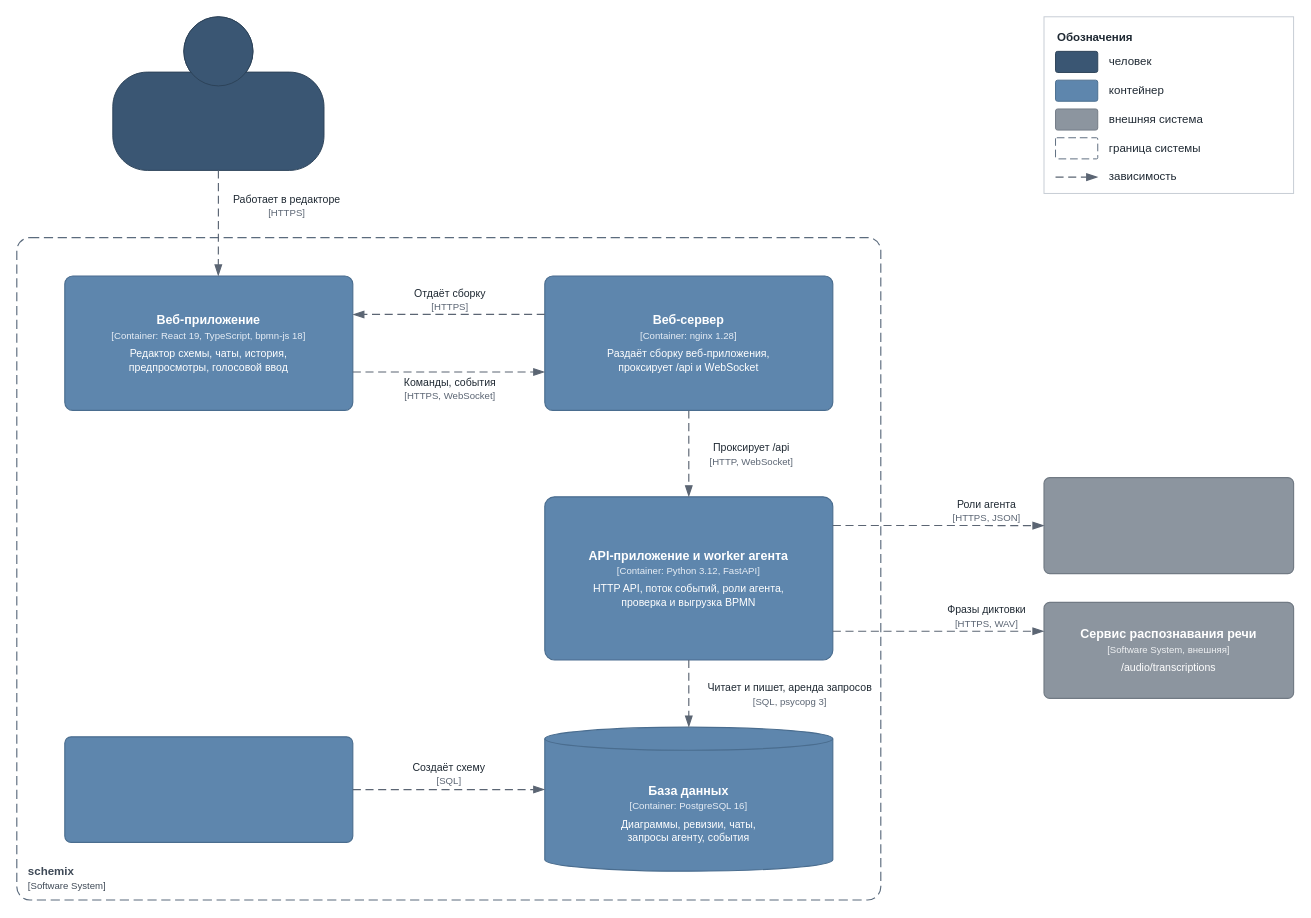
The diagram is 1311 pixels wide and 918 high, and some of its shapes have lost their labels. Here are the shapes that lost their labels. From the top down, the centre of each, then its label:
At [218,93]: "Аналитик [Person] Работает в браузере".
At [1168,525]: "Провайдер языковой модели [Software System, внешняя] chat/completions".
At [208,789]: "Миграции [Container: Alembic, разовый запуск] alembic upgrade head".
